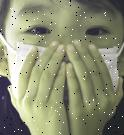with_mask: (1, 2, 124, 135)
